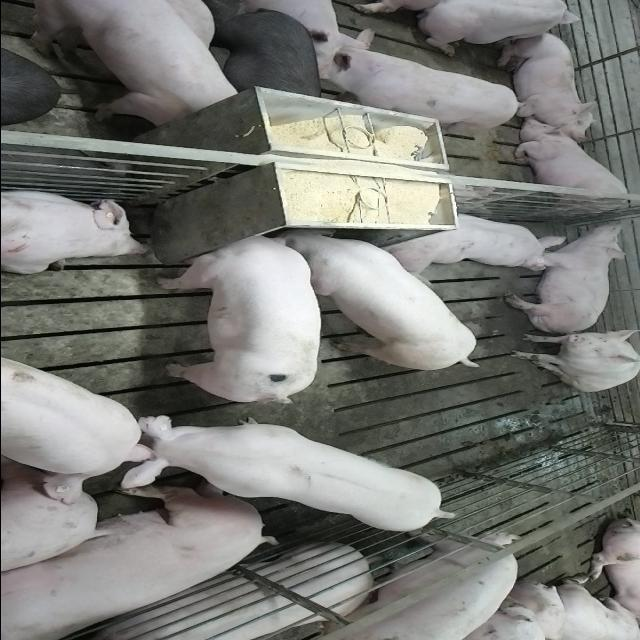Feeding: (274, 228, 481, 376), (154, 232, 322, 408)
Lateral_lying: (0, 480, 273, 636), (498, 221, 626, 333)
Sitting: (500, 125, 636, 218), (506, 329, 638, 392)
Standing: (106, 416, 452, 535), (68, 547, 372, 640), (19, 1, 245, 126), (298, 531, 524, 640), (313, 32, 532, 128), (0, 355, 146, 486), (198, 3, 324, 98)
Sternal_lying: (0, 187, 151, 275), (381, 209, 567, 273), (494, 32, 598, 134), (413, 3, 588, 57)
